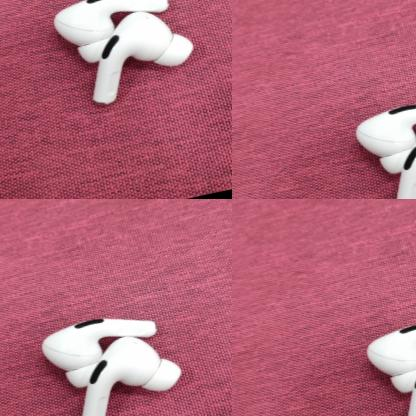Airpods: (56, 324, 232, 416), (353, 294, 416, 384), (362, 101, 416, 199), (378, 324, 416, 416)
